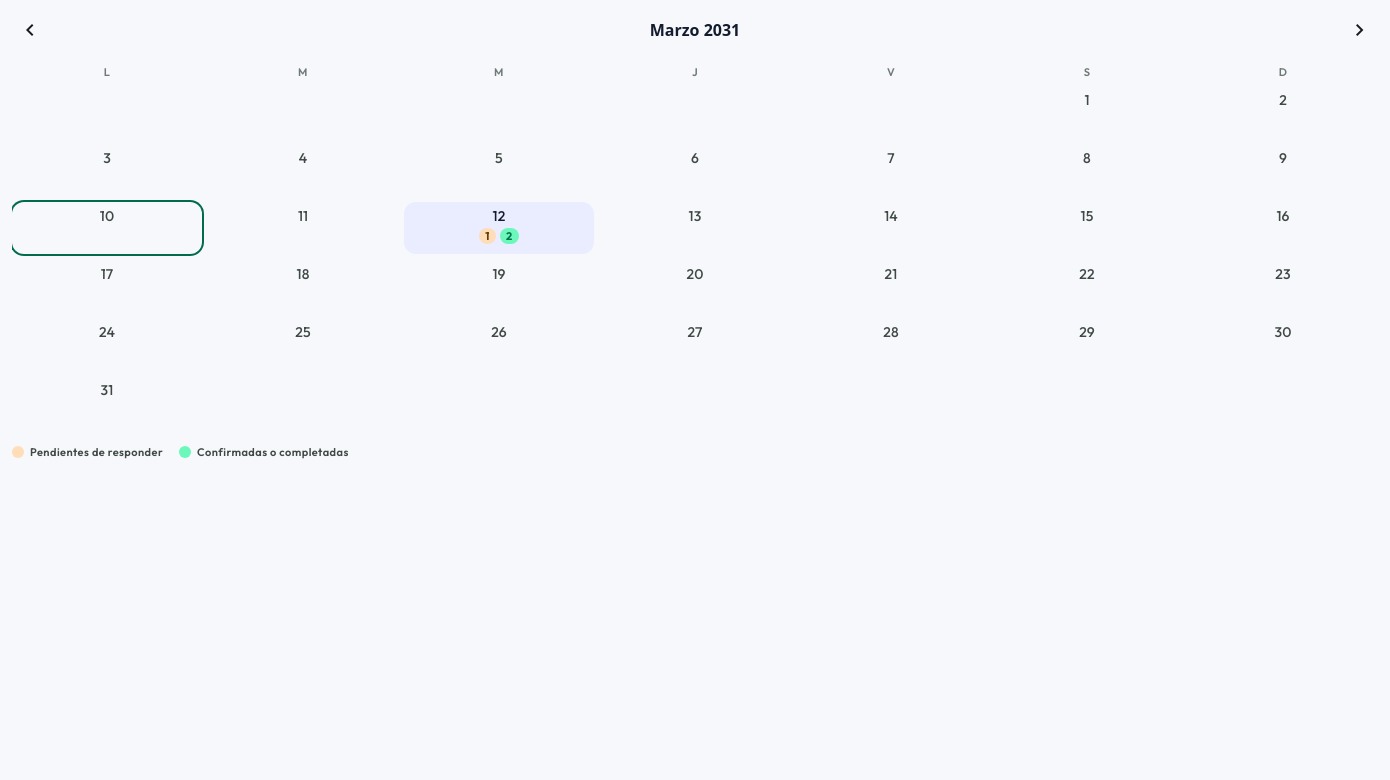
Scenario: CalendarioReservas › un día sin reservas lo dice
The width and height of the screenshot is (1390, 780).
Click the button "15": (1087, 228) [992,202,1182,254]
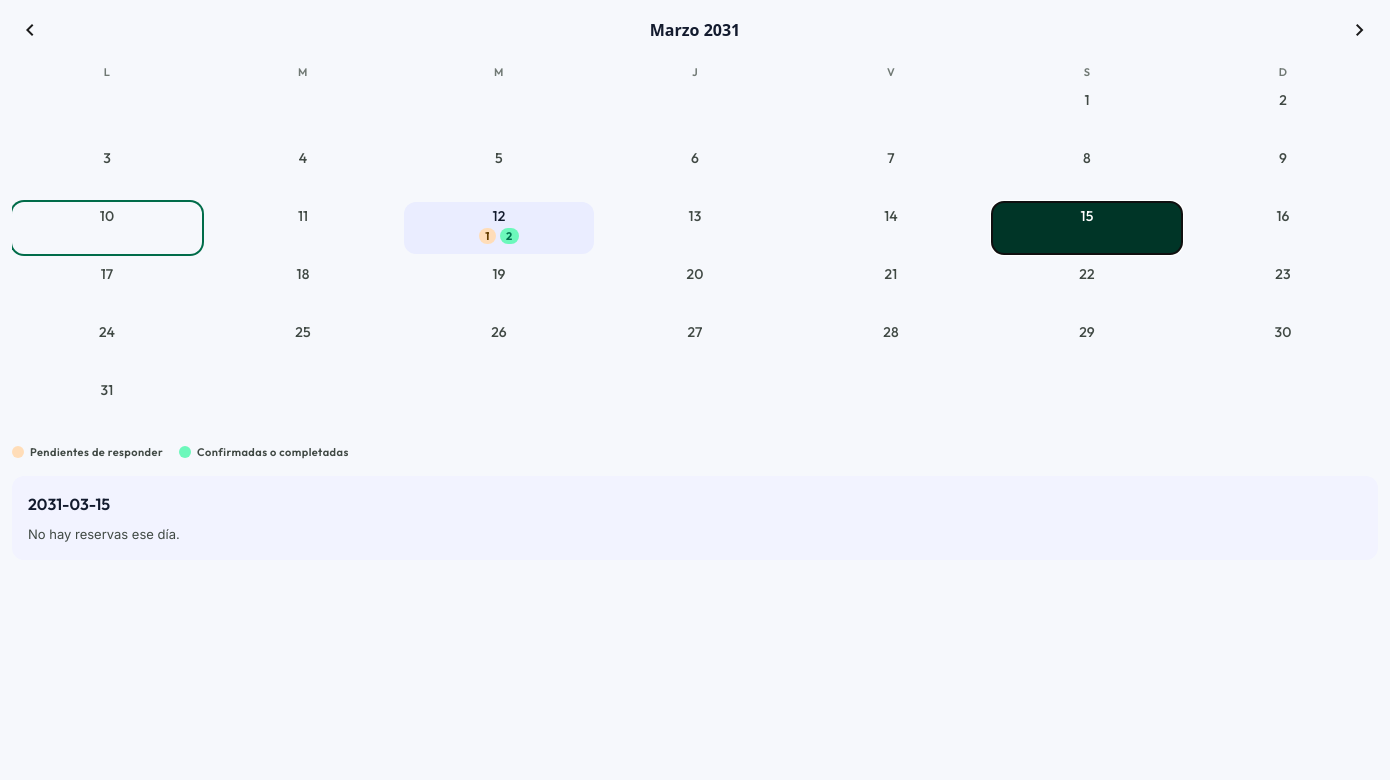
Expected: the text "No hay reservas ese día." is shown, [28,526,180,542]
